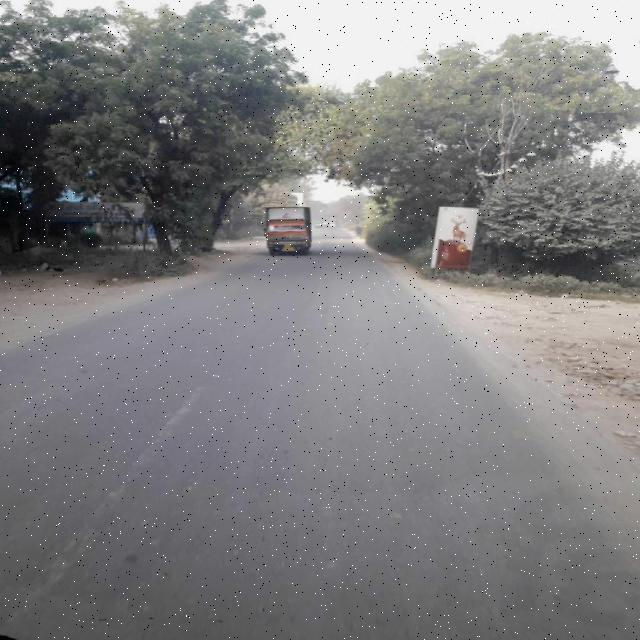D44: (24, 364, 220, 608)
